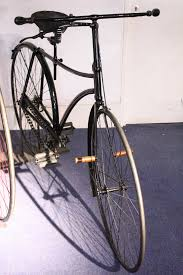bicycle: (4, 7, 164, 272)
